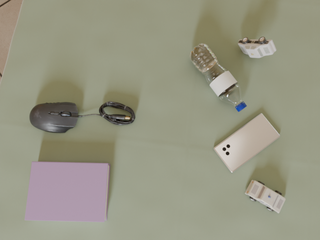book: (25, 162, 110, 222)
bottle: (189, 43, 247, 112)
mouse: (30, 102, 83, 133)
phone: (214, 113, 280, 173)
toy_car: (245, 180, 285, 213), (238, 37, 276, 58)
